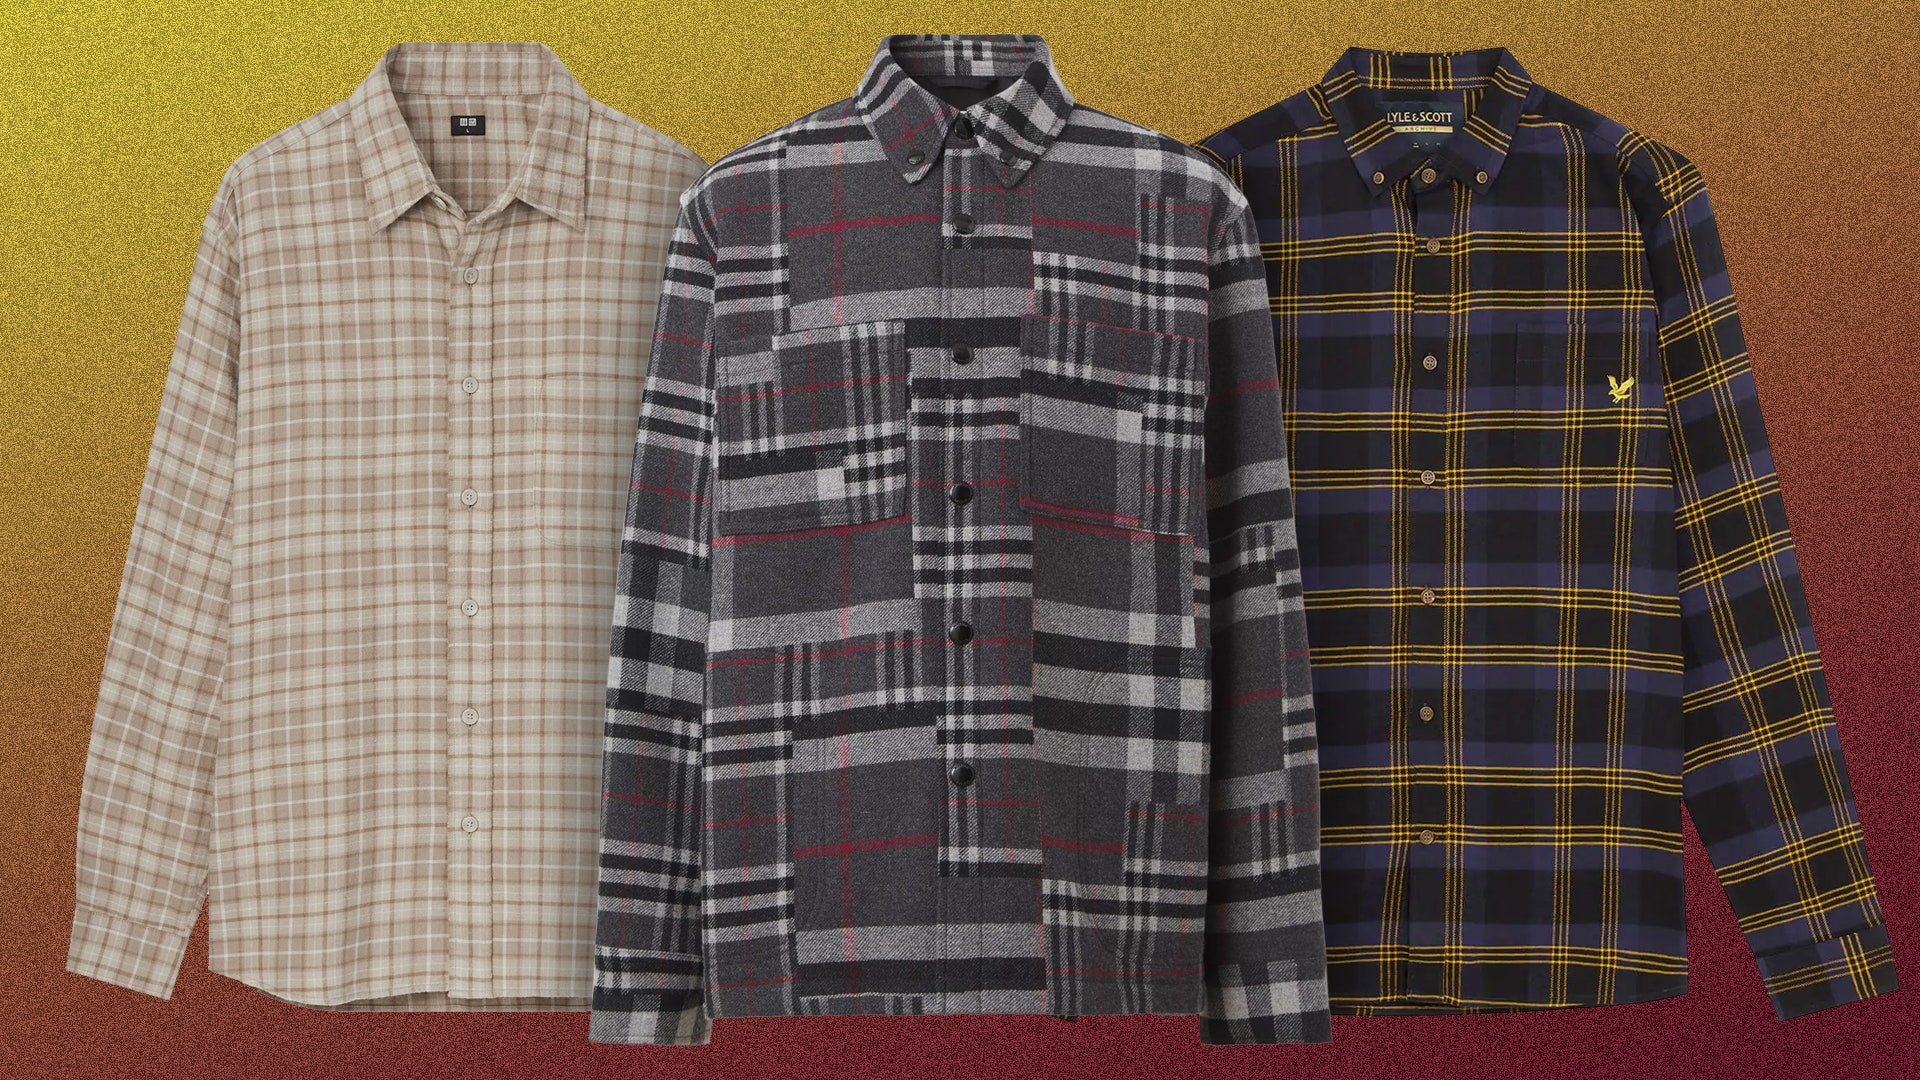long-sleeved shirt: (1121, 51, 1898, 1034), (600, 36, 1325, 1034), (63, 45, 731, 1062)
